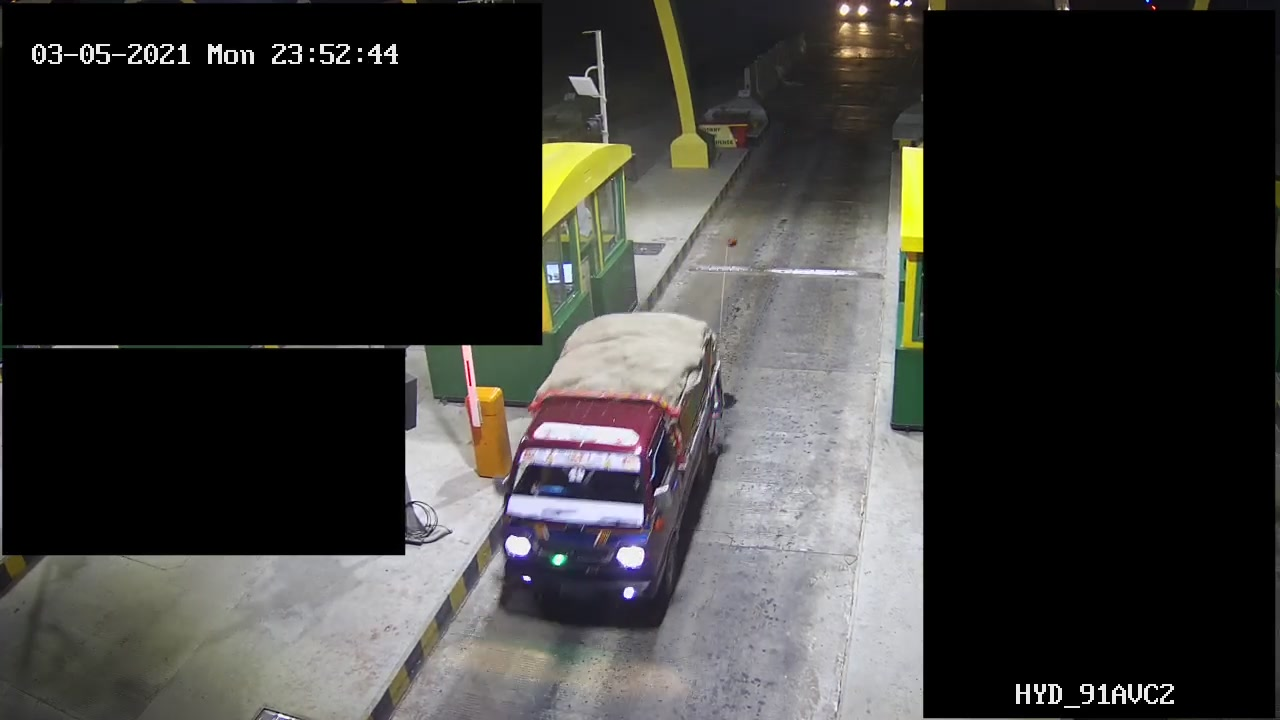F1: (488, 303, 731, 630)
